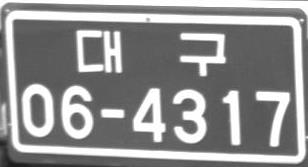0: (21, 82, 55, 138)
1: (216, 89, 251, 146)
3: (172, 88, 207, 143)
4: (132, 86, 166, 143)
6: (60, 84, 94, 139)
7: (254, 89, 290, 147)
대구_D: (74, 29, 226, 76)
